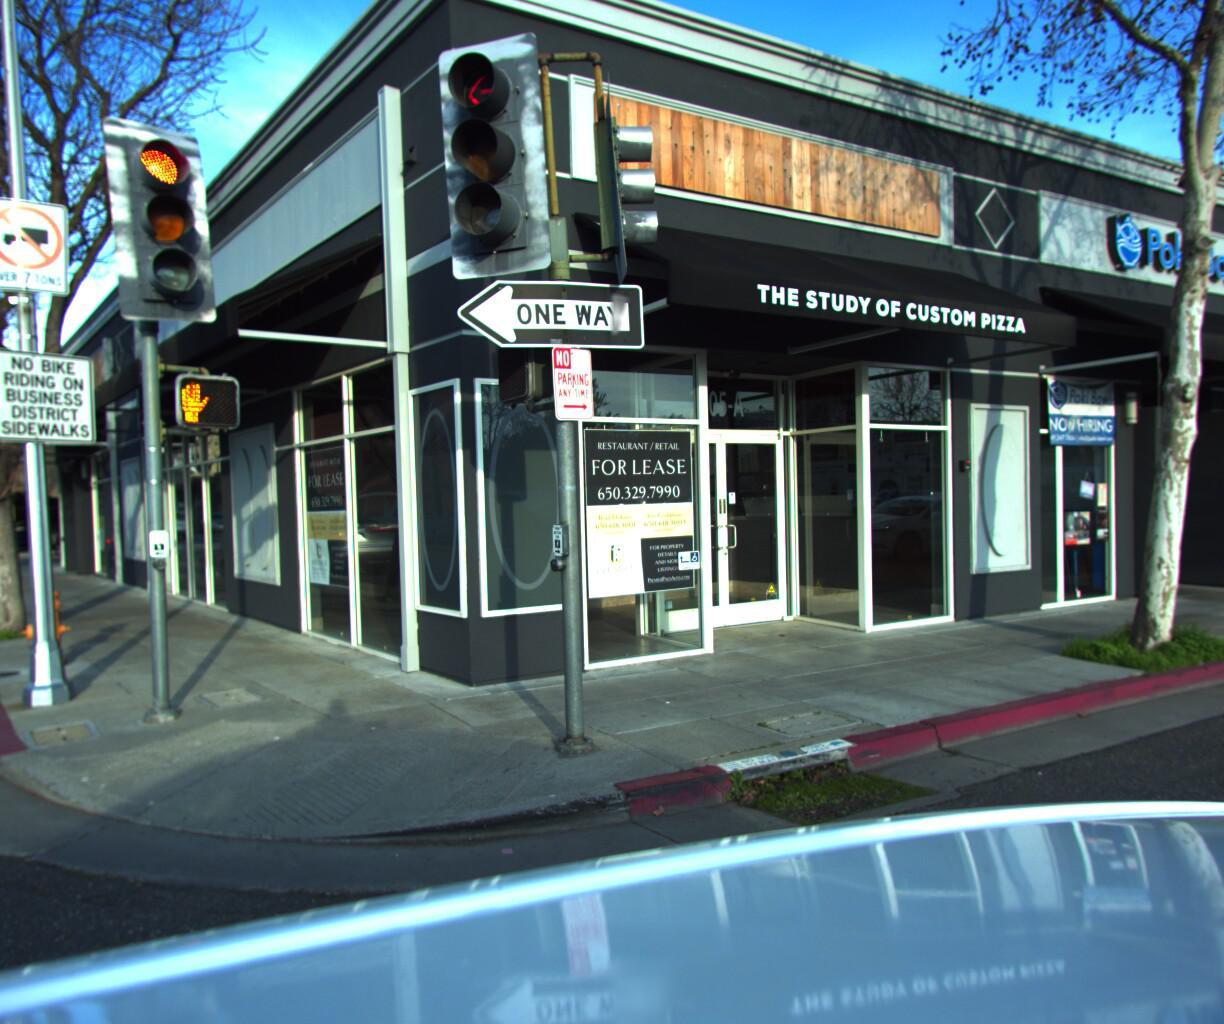car: (20, 510, 133, 551)
